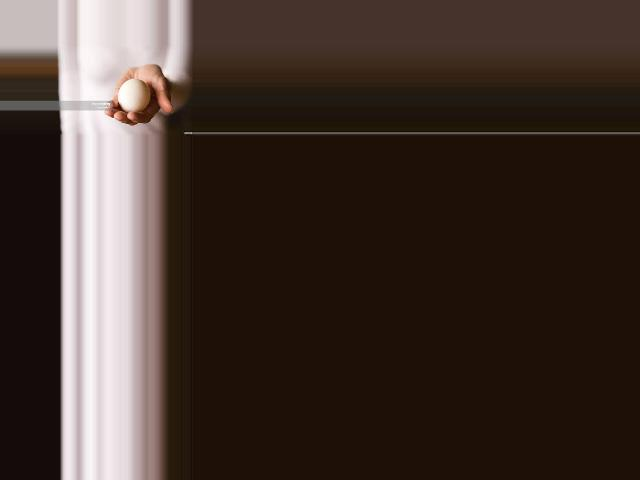egg: (117, 79, 150, 113)
